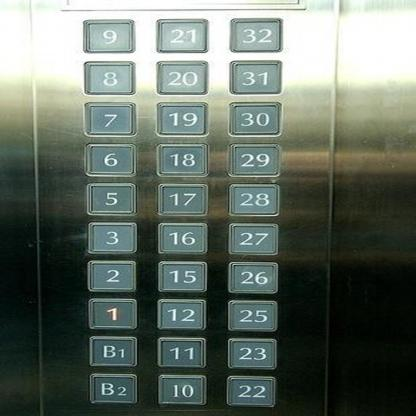1: (87, 298, 138, 329)
10: (155, 374, 206, 405)
11: (154, 337, 206, 368)
12: (155, 298, 206, 330)
15: (155, 260, 207, 291)
16: (156, 221, 207, 253)
17: (155, 183, 208, 216)
18: (156, 141, 208, 177)
19: (154, 101, 208, 137)
2: (85, 259, 138, 292)
20: (154, 60, 209, 96)
21: (155, 18, 208, 53)
22: (225, 375, 275, 407)
23: (226, 337, 277, 369)
25: (226, 300, 277, 331)
26: (227, 261, 277, 293)
27: (226, 222, 277, 255)
28: (227, 183, 280, 216)
29: (227, 142, 281, 176)
3: (86, 222, 138, 253)
30: (226, 100, 283, 137)
31: (227, 59, 283, 95)
32: (229, 17, 282, 52)
5: (84, 181, 137, 214)
6: (82, 142, 136, 177)
7: (82, 101, 136, 136)
8: (82, 60, 135, 96)
9: (82, 18, 134, 53)
B1: (87, 335, 138, 367)
B2: (89, 372, 138, 404)
